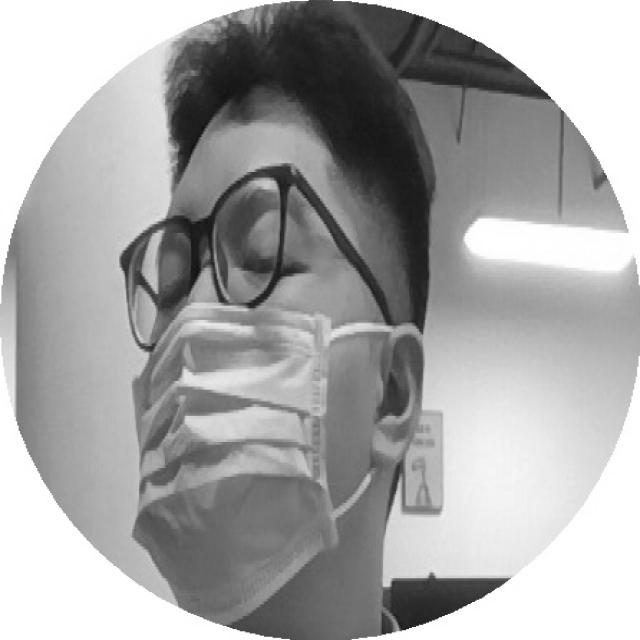fake: (121, 309, 369, 620)
real: (120, 188, 322, 307)
